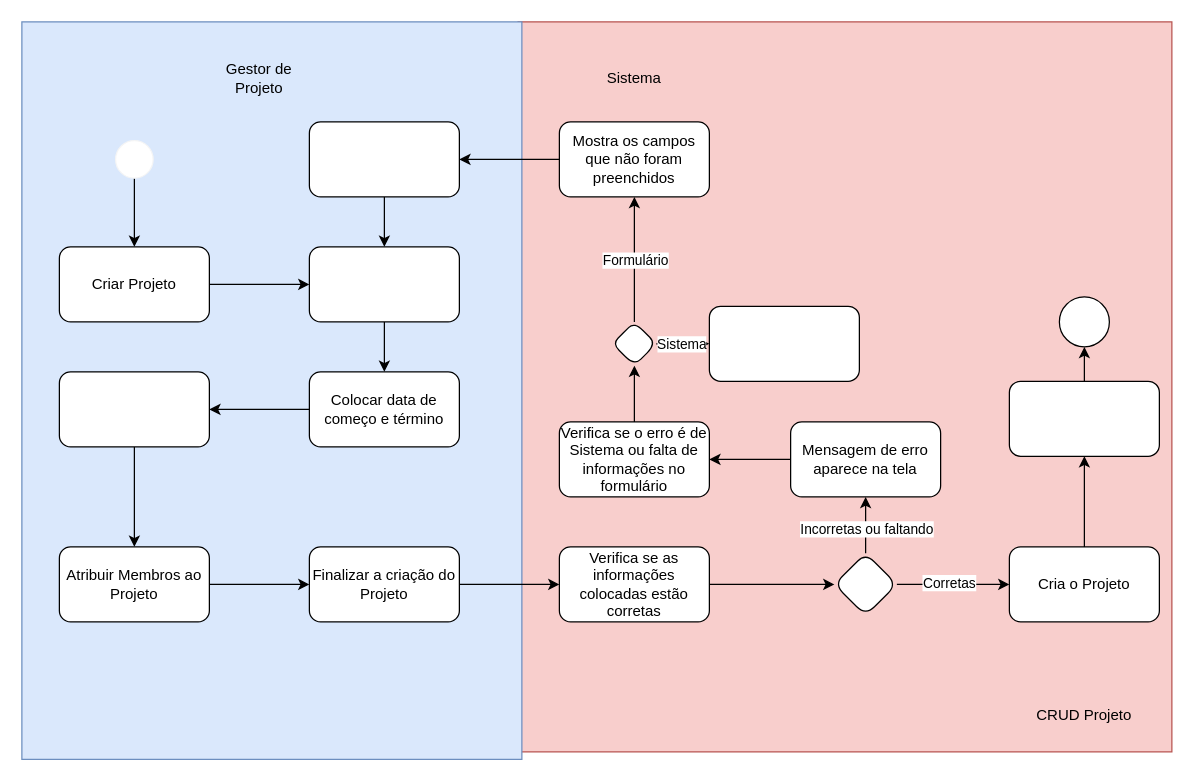
The diagram is 1194 pixels wide and 781 high, and some of its shapes have lost their labels. The shapes that lost their labels are listed below. From the top down, each one's centre as x and y in pixels, then its label:
At (383,159): "Verificar os campos que não foram preenchidos".
At (383,284): "Colocar o nome do Projeto".
At (783,343): "Mostra um erro de sistema e pede para contatar um Adm do Sistema".
At (133,409): "Descrição do projeto".
At (1083,418): "Mandar um aviso de que o membro está no projeto".
